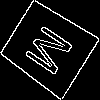M: (23, 23, 82, 83)
